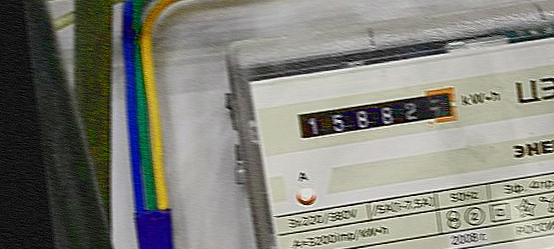1: (304, 117, 318, 137)
2: (401, 102, 416, 122)
5: (328, 113, 343, 135)
7: (427, 106, 440, 121)
8: (353, 109, 368, 132), (378, 106, 392, 128)
screen: (287, 82, 466, 150)
